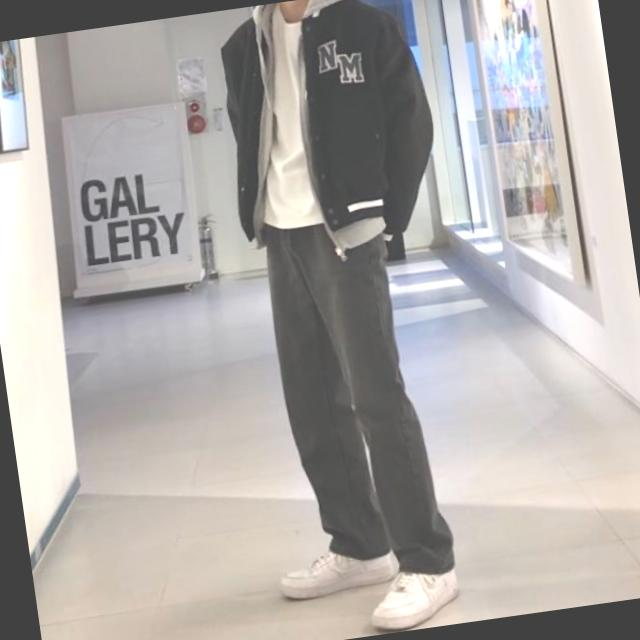denimpants: (258, 209, 461, 595)
jacket: (206, 0, 444, 257)
